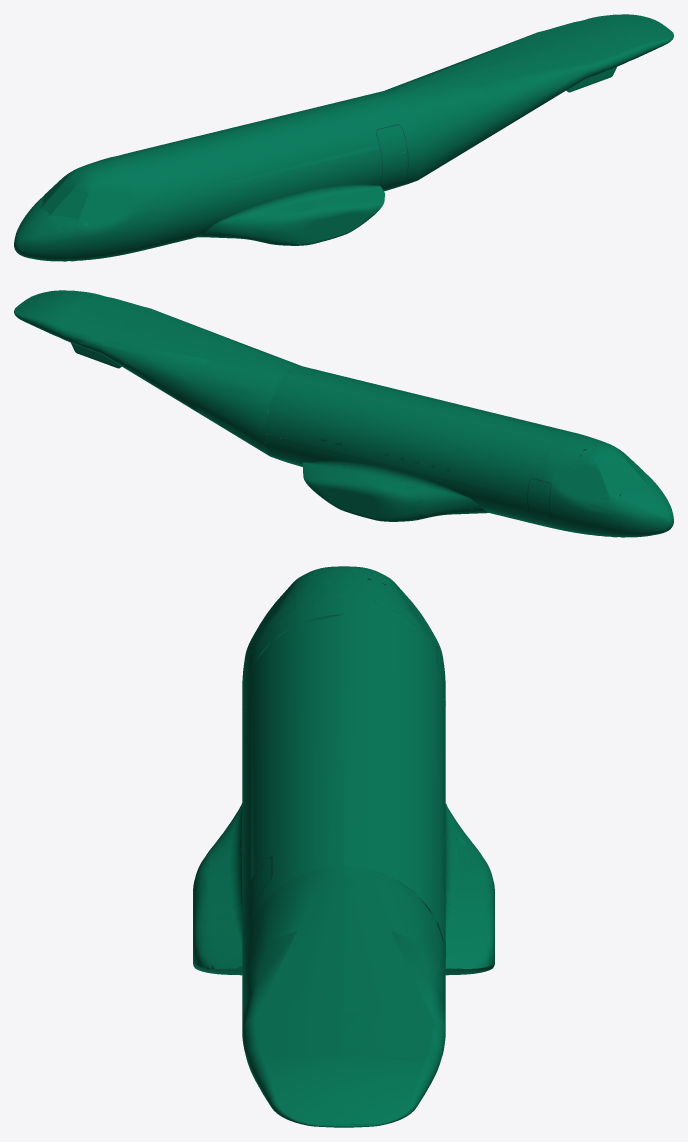
File: troops flip.fbx
The picture shows the model from 3 angles, top to bottom: view 1: azimuth 30°, elevation 25°; view 2: azimuth 150°, elevation 25°; view 3: azimuth 270°, elevation 25°; orthographic projection. The views are drawn at different scales.
Parts seen in each view (by area): view 1: OPEN_SHELL #3433; view 2: OPEN_SHELL #3433; view 3: OPEN_SHELL #3433.
Part boxes in pixels (<box>): OPEN_SHELL #3433: <box>14,14,673,261</box>; OPEN_SHELL #3433: <box>14,290,673,537</box>; OPEN_SHELL #3433: <box>193,566,494,1127</box>.
Size of the model in its own units: 214 by 32.91 by 43.02.
